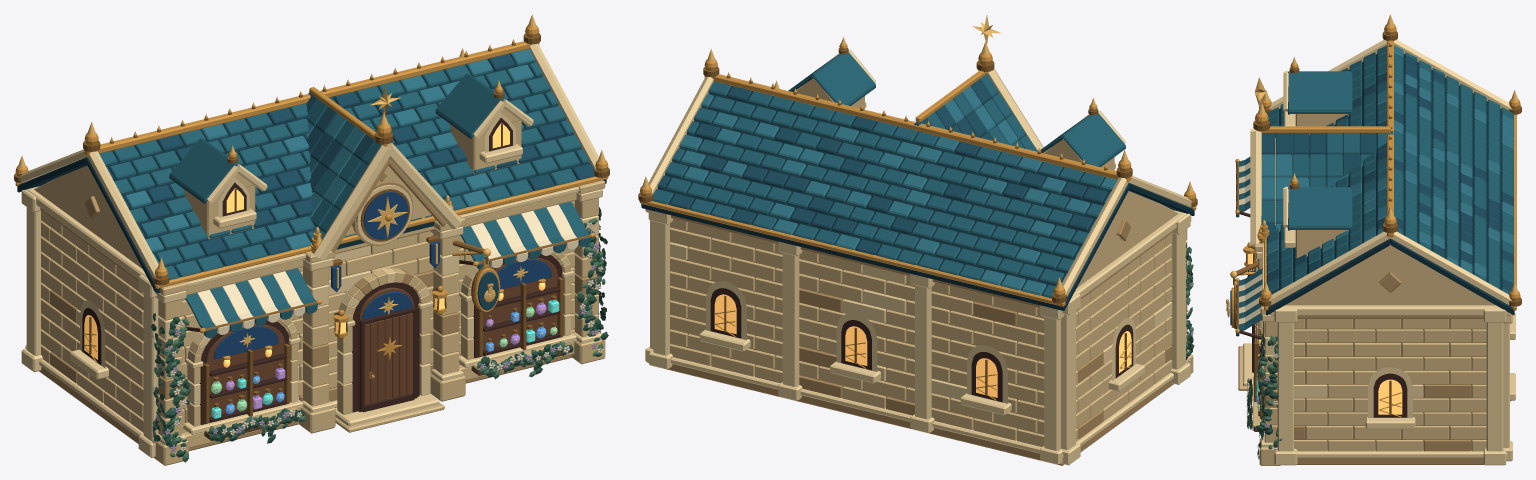
Rendered from shop-exterior.glb.
The picture shows the model from 3 angles, left to right: view 1: azimuth 30°, elevation 25°; view 2: azimuth 150°, elevation 25°; view 3: azimuth 270°, elevation 25°; orthographic projection. The views are drawn at different scales.
Parts seen in each view (by area): view 1: Teal tile roof, Limestone shell, Entry gable and dormers, Facade · Stonework, Facade · Potion displays, Facade · Entrance, Facade · Canvas awnings, Planting, Facade · Apothecary sign; view 2: Limestone shell, Teal tile roof, Entry gable and dormers, Planting; view 3: Limestone shell, Teal tile roof, Entry gable and dormers, Facade · Canvas awnings, Planting, Facade · Stonework, Facade · Entrance, Facade · Potion displays, Facade · Apothecary sign.
Part boxes in pixels (left/top/right/bottom): Teal tile roof: left=14, top=14, right=609, bottom=293; Limestone shell: left=21, top=165, right=575, bottom=457; Entry gable and dormers: left=169, top=73, right=533, bottom=260; Facade · Stonework: left=154, top=180, right=605, bottom=465; Facade · Potion displays: left=185, top=250, right=573, bottom=426; Facade · Entrance: left=330, top=172, right=447, bottom=432; Facade · Canvas awnings: left=185, top=201, right=595, bottom=337; Planting: left=151, top=207, right=608, bottom=462; Facade · Apothecary sign: left=452, top=240, right=500, bottom=312; Limestone shell: left=645, top=191, right=1190, bottom=465; Teal tile roof: left=638, top=49, right=1197, bottom=310; Entry gable and dormers: left=788, top=15, right=1125, bottom=170; Planting: left=1185, top=243, right=1194, bottom=363; Limestone shell: left=1270, top=244, right=1515, bottom=465; Teal tile roof: left=1259, top=14, right=1521, bottom=315; Entry gable and dormers: left=1250, top=57, right=1393, bottom=258; Facade · Canvas awnings: left=1235, top=157, right=1264, bottom=340; Planting: left=1246, top=270, right=1282, bottom=459; Facade · Stonework: left=1253, top=220, right=1280, bottom=465; Facade · Entrance: left=1238, top=242, right=1258, bottom=390; Facade · Potion displays: left=1254, top=253, right=1264, bottom=421; Facade · Apothecary sign: left=1226, top=261, right=1258, bottom=328.
Bounding box in the file's own units: 7.66 × 5.27 × 4.81.
